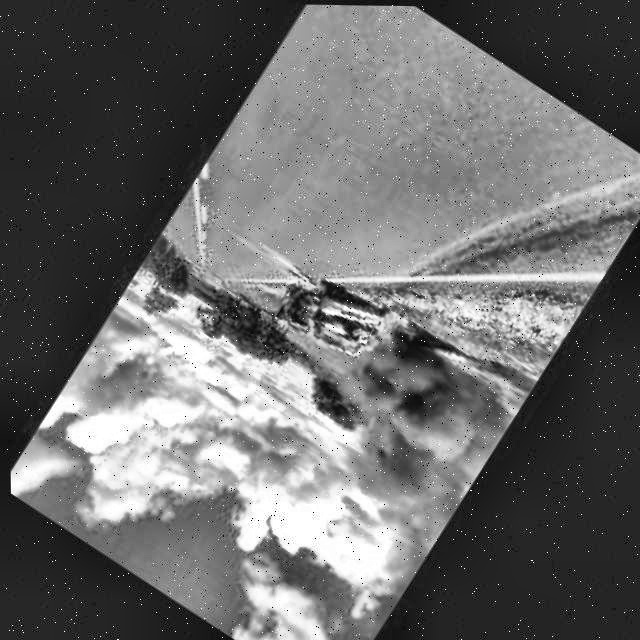Fire: (278, 273, 352, 350), (355, 303, 416, 368)
Smoke: (288, 316, 521, 550)
